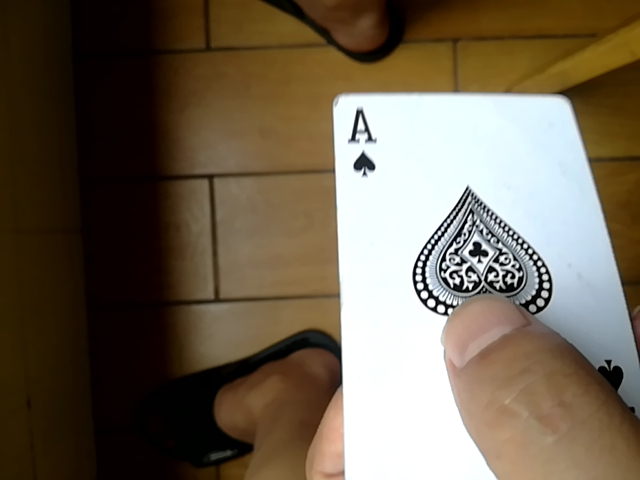ht a: (321, 87, 632, 475)
